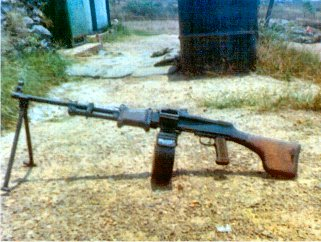rifle: (9, 78, 304, 200)
